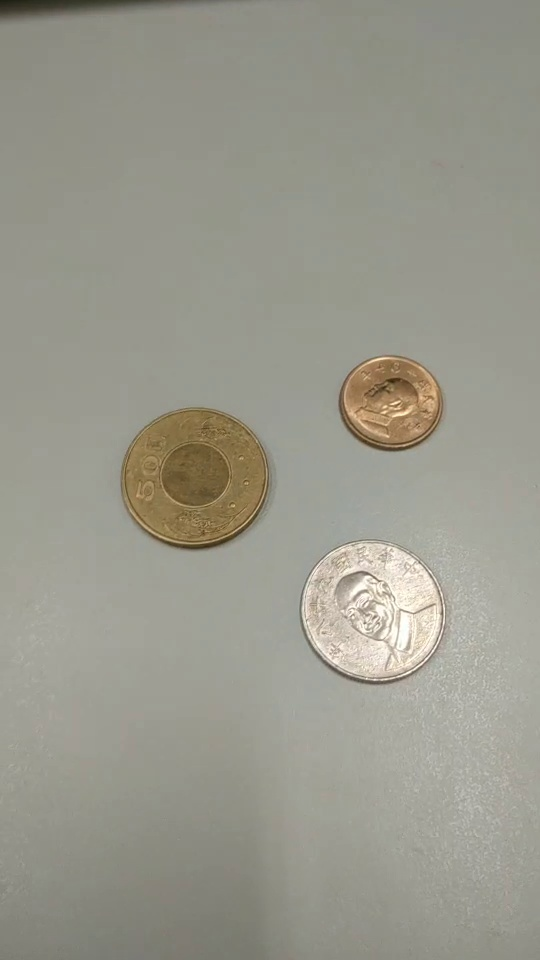NT$ 1: (337, 353, 446, 454)
NT$ 10: (300, 538, 445, 683)
NT$ 50: (118, 406, 270, 552)
